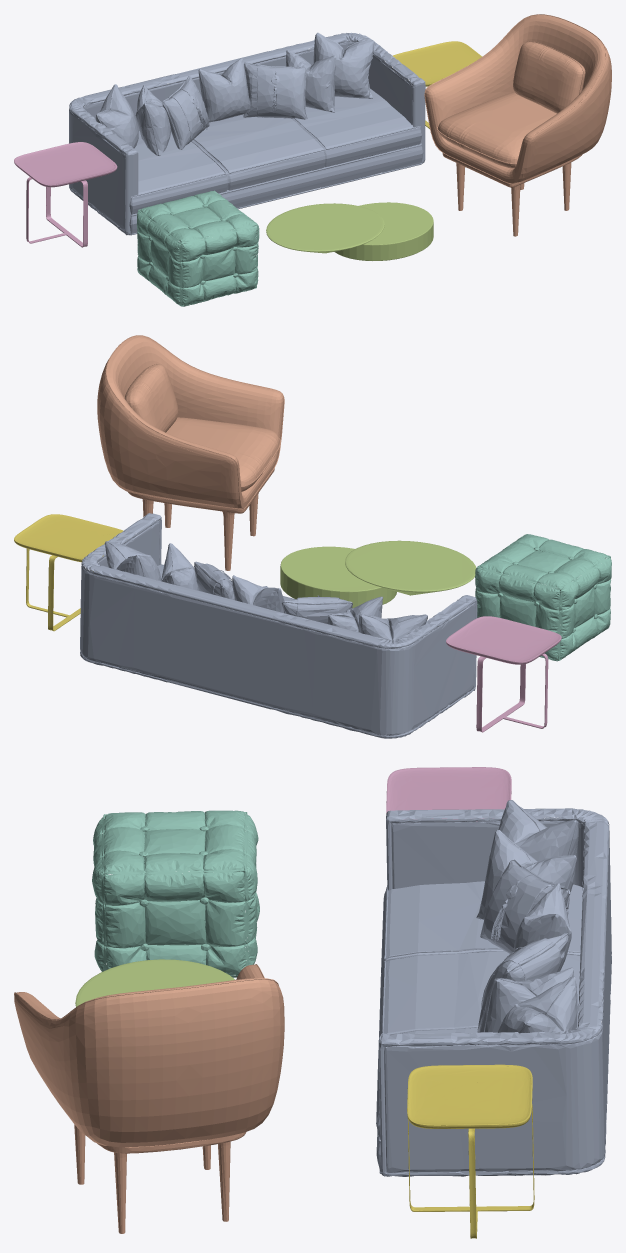
The picture shows the model from 3 angles, top to bottom: view 1: azimuth 30°, elevation 25°; view 2: azimuth 150°, elevation 25°; view 3: azimuth 270°, elevation 25°; orthographic projection. The views are drawn at different scales.
Visible parts, largest first — view 1: target_0_2, target_0_1, target_0_0, target_0_4, target_0_3, target_0_5; view 2: target_0_2, target_0_1, target_0_0, target_0_4, target_0_3, target_0_5; view 3: target_0_2, target_0_1, target_0_0, target_0_5, target_0_3, target_0_4.
Part boxes in pixels (x1,y1,x2,y2): target_0_2: [69, 32, 425, 235]; target_0_1: [424, 14, 611, 236]; target_0_0: [136, 190, 259, 306]; target_0_4: [266, 202, 433, 260]; target_0_3: [14, 142, 117, 247]; target_0_5: [393, 41, 482, 128]; target_0_2: [80, 513, 477, 738]; target_0_1: [97, 335, 284, 570]; target_0_0: [475, 534, 611, 661]; target_0_4: [280, 540, 476, 608]; target_0_3: [446, 616, 561, 732]; target_0_5: [14, 514, 123, 631]; target_0_2: [376, 800, 611, 1176]; target_0_1: [14, 964, 284, 1233]; target_0_0: [92, 810, 259, 977]; target_0_5: [407, 1064, 534, 1238]; target_0_3: [386, 767, 511, 821]; target_0_4: [75, 959, 235, 1006].
Size of the model in its own units: 0.9894 by 0.3298 by 0.6546.
